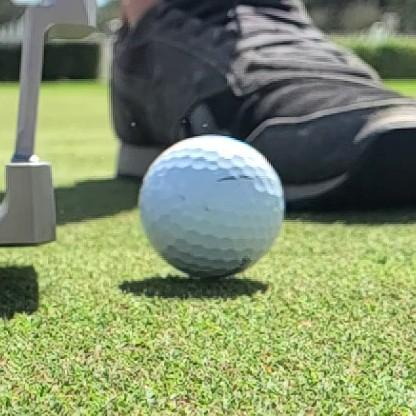golfball: (140, 137, 284, 277)
